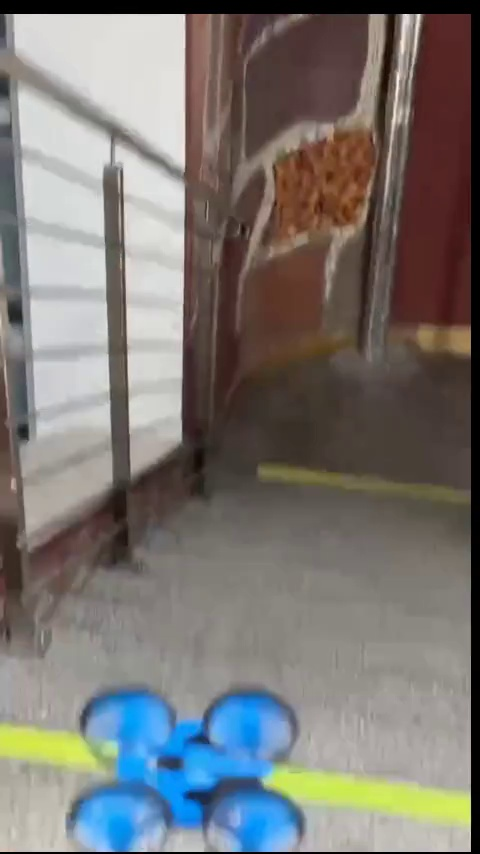drone: (74, 686, 306, 847)
